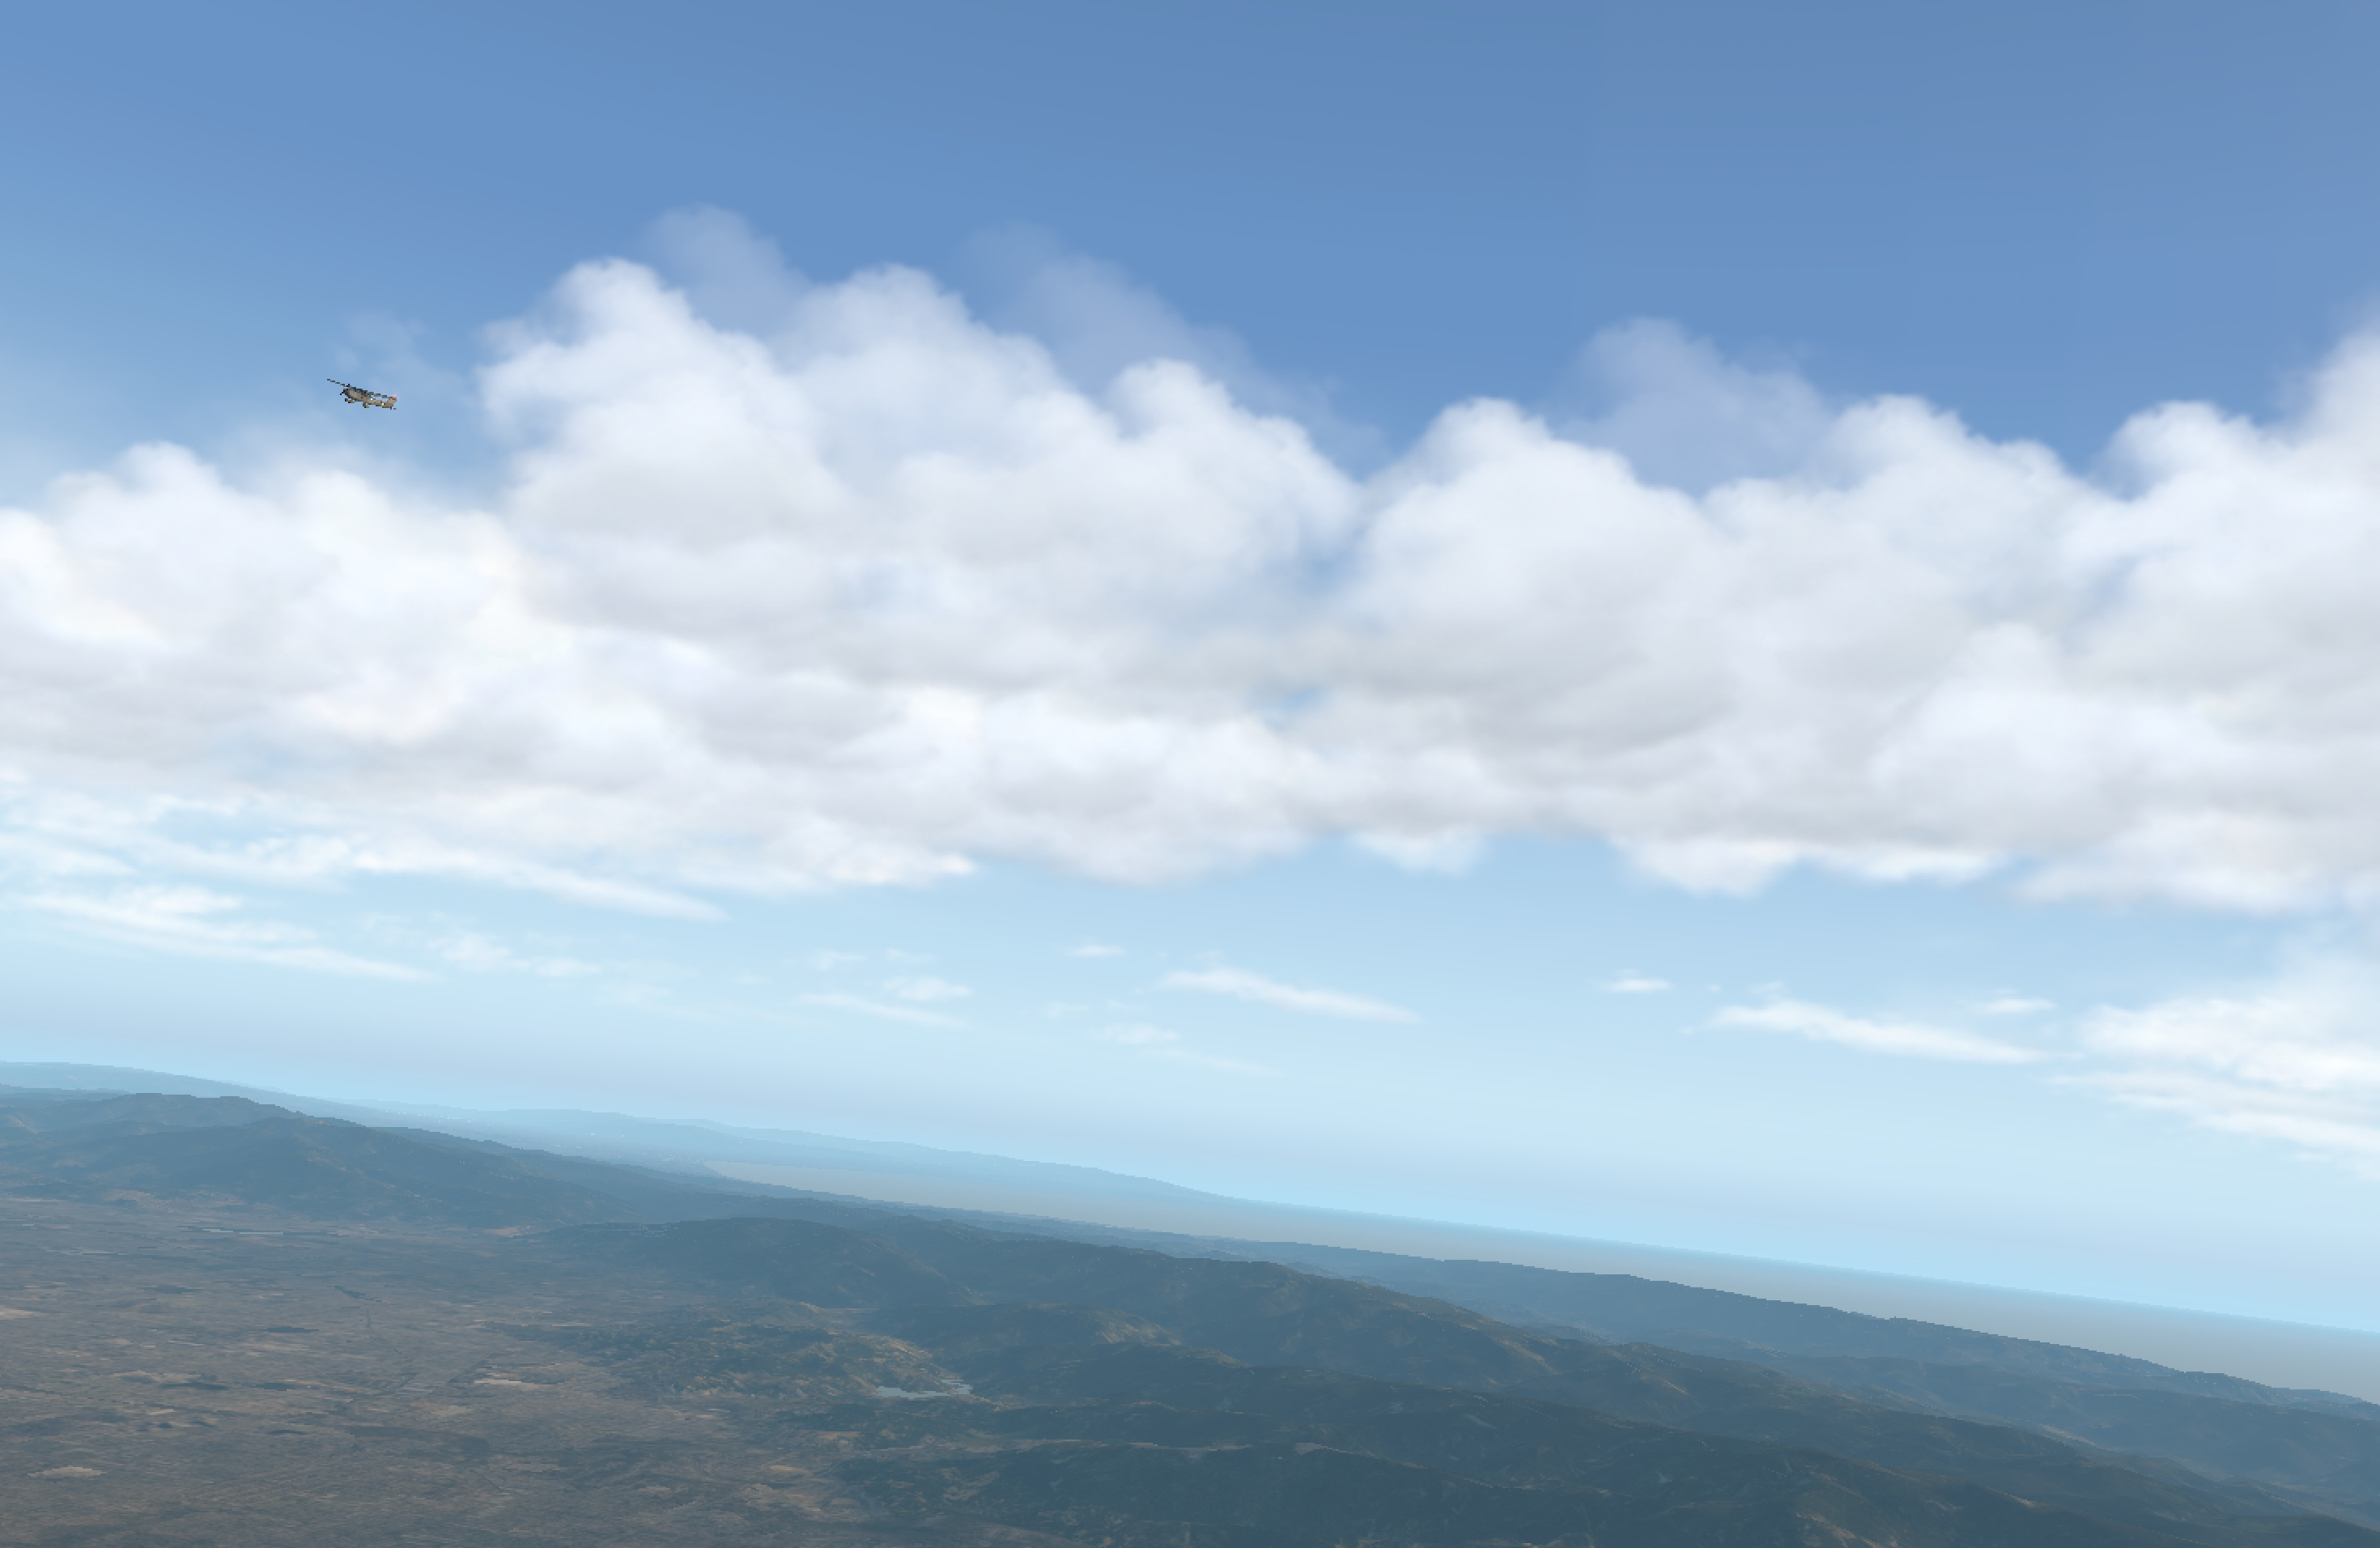aircraft: (328, 384, 389, 406)
